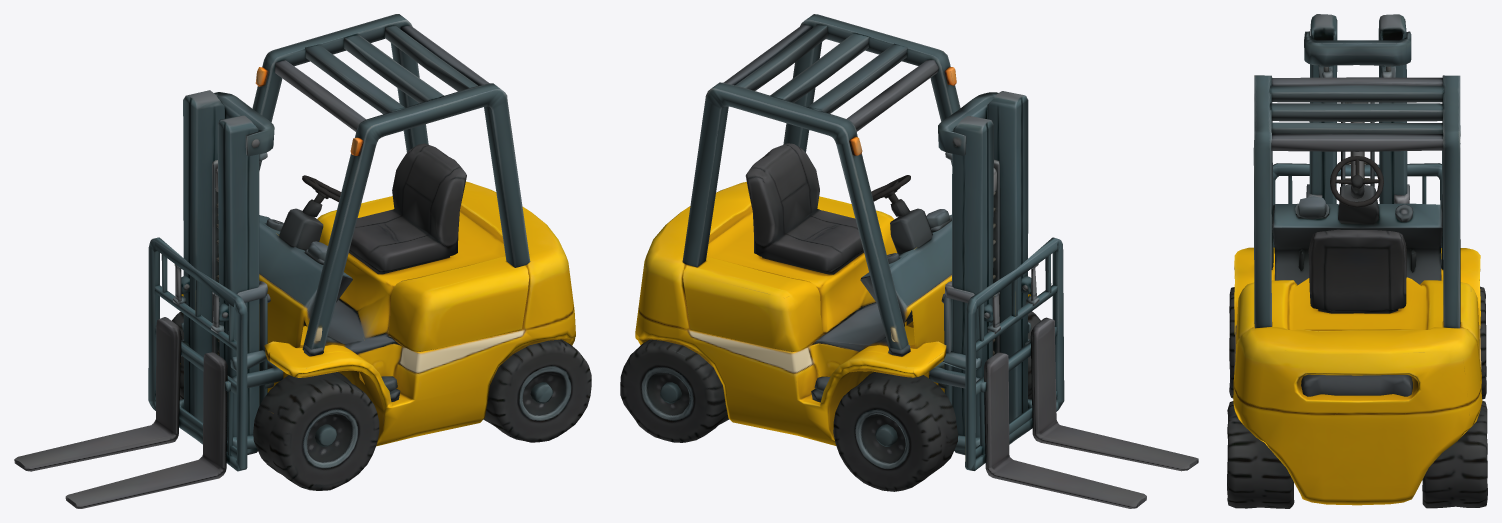
File: timber-forklift.glb
3 views of the same model, side by side, from view 1: azimuth 30°, elevation 25°; view 2: azimuth 150°, elevation 25°; view 3: azimuth 270°, elevation 25° (orthographic).
Parts seen in each view (by area): view 1: geometry_0; view 2: geometry_0; view 3: geometry_0.
Part boxes in pixels (x1,y1,x2,y2): geometry_0: [14, 14, 591, 508]; geometry_0: [620, 14, 1198, 508]; geometry_0: [1227, 14, 1487, 508].
Bounding box in the file's own units: 1 × 0.6871 × 0.457.
1 material, 1 textured.
